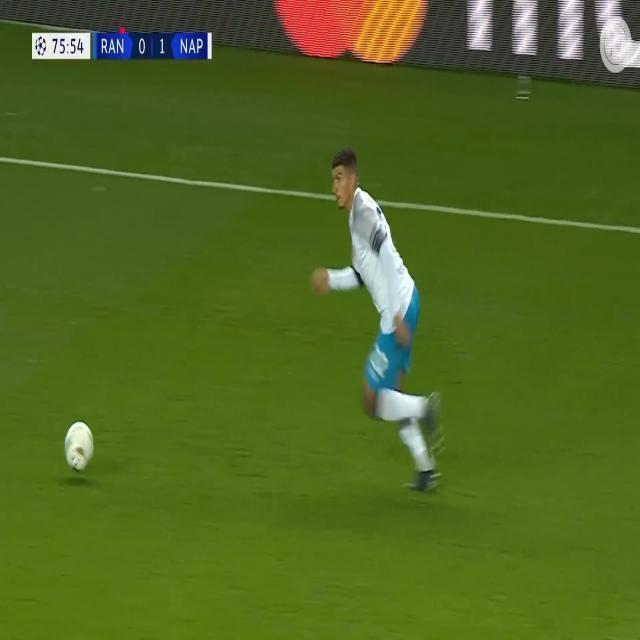ball: (57, 398, 102, 499)
player: (312, 140, 453, 492)
